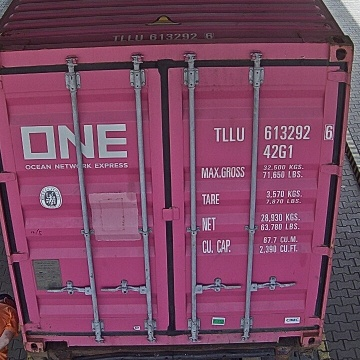serial_id: (214, 124, 333, 141)
